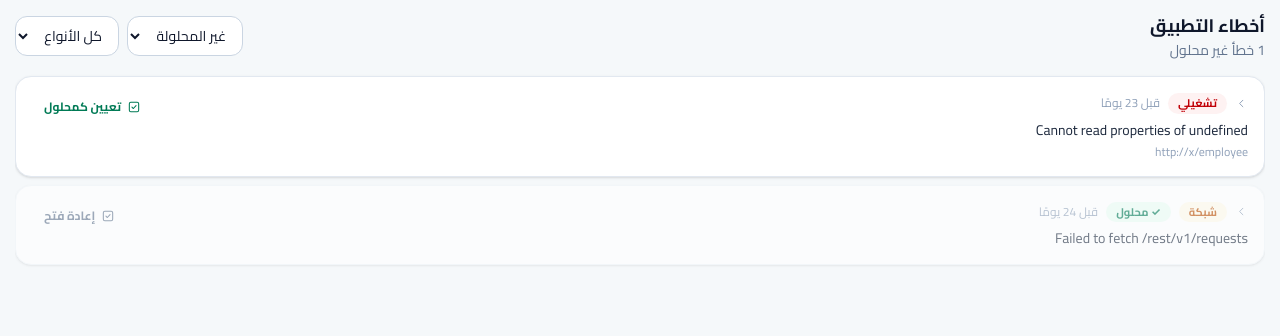
Scenario: ErrorLogs — وحدة قاعدة البيانات › التوسيع: النقر على الصف يعرض التفاصيل التقنية
Click the button with test id "expand-1" at (1198, 103), box left=165, top=93, right=1248, bottom=114
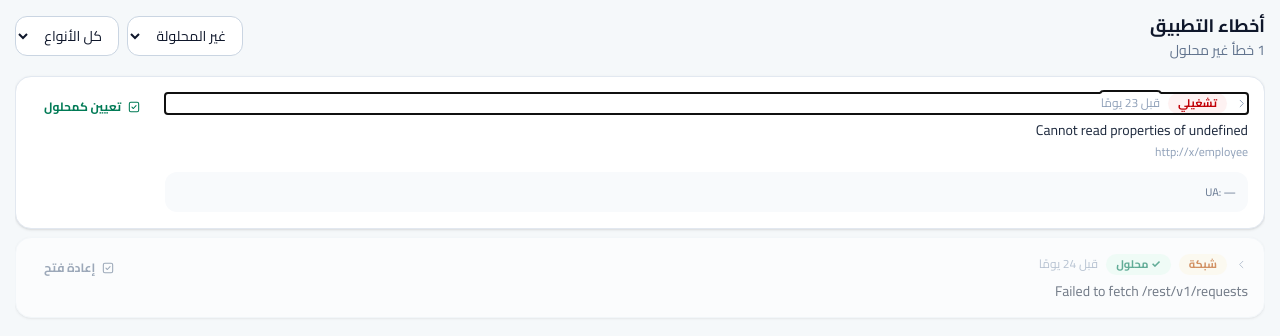
Now the element with test id "detail-1" is shown, box left=165, top=172, right=1248, bottom=212
